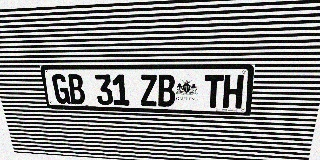1: (111, 74, 130, 106)
3: (94, 74, 113, 105)
B: (157, 74, 175, 107), (67, 74, 86, 104)
G: (51, 74, 71, 104)
H: (223, 75, 244, 109)
T: (204, 75, 224, 108)
Z: (139, 74, 158, 106)
